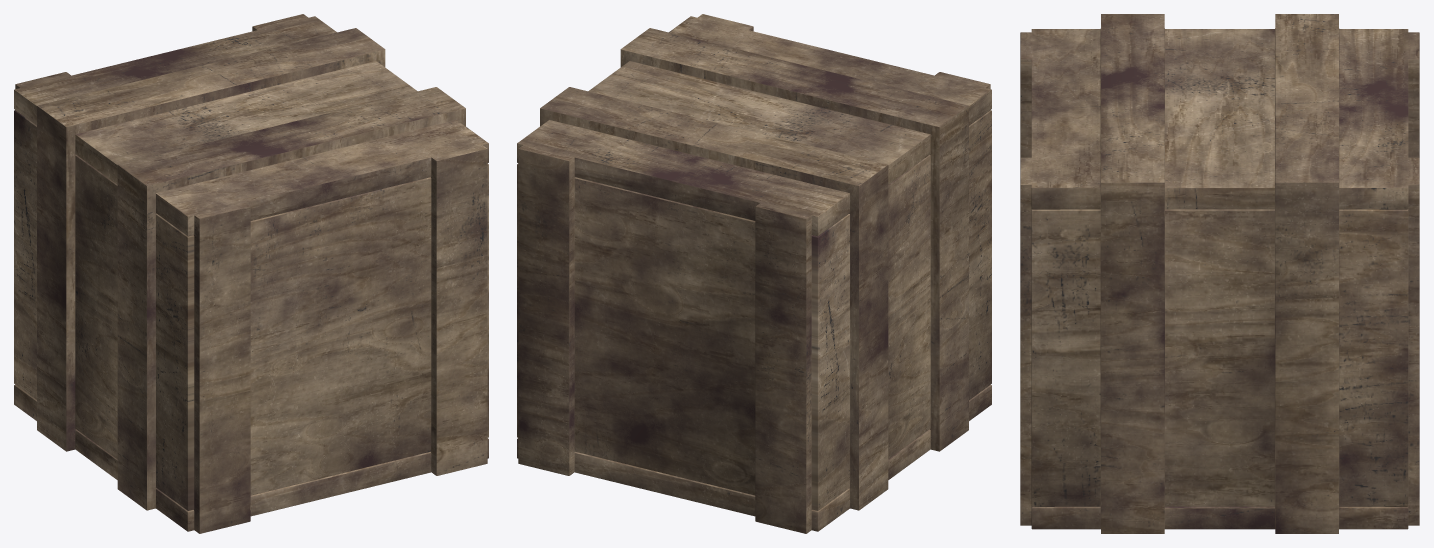
Rendered from woodenBox.gltf.
The picture shows the model from 3 angles, left to right: view 1: azimuth 30°, elevation 25°; view 2: azimuth 150°, elevation 25°; view 3: azimuth 270°, elevation 25°; orthographic projection. The views are drawn at different scales.
Visible parts, largest first — view 1: woodenBox1; view 2: woodenBox1; view 3: woodenBox1.
Boxes of the visible parts, x1,y1,x2,y2 form: woodenBox1: (14,14,488,533); woodenBox1: (517,14,991,533); woodenBox1: (1020,14,1419,533).
Bounding box in the file's own units: 1.06 × 1.03 × 1.06.
Materials: 1 (1 with a texture image).
